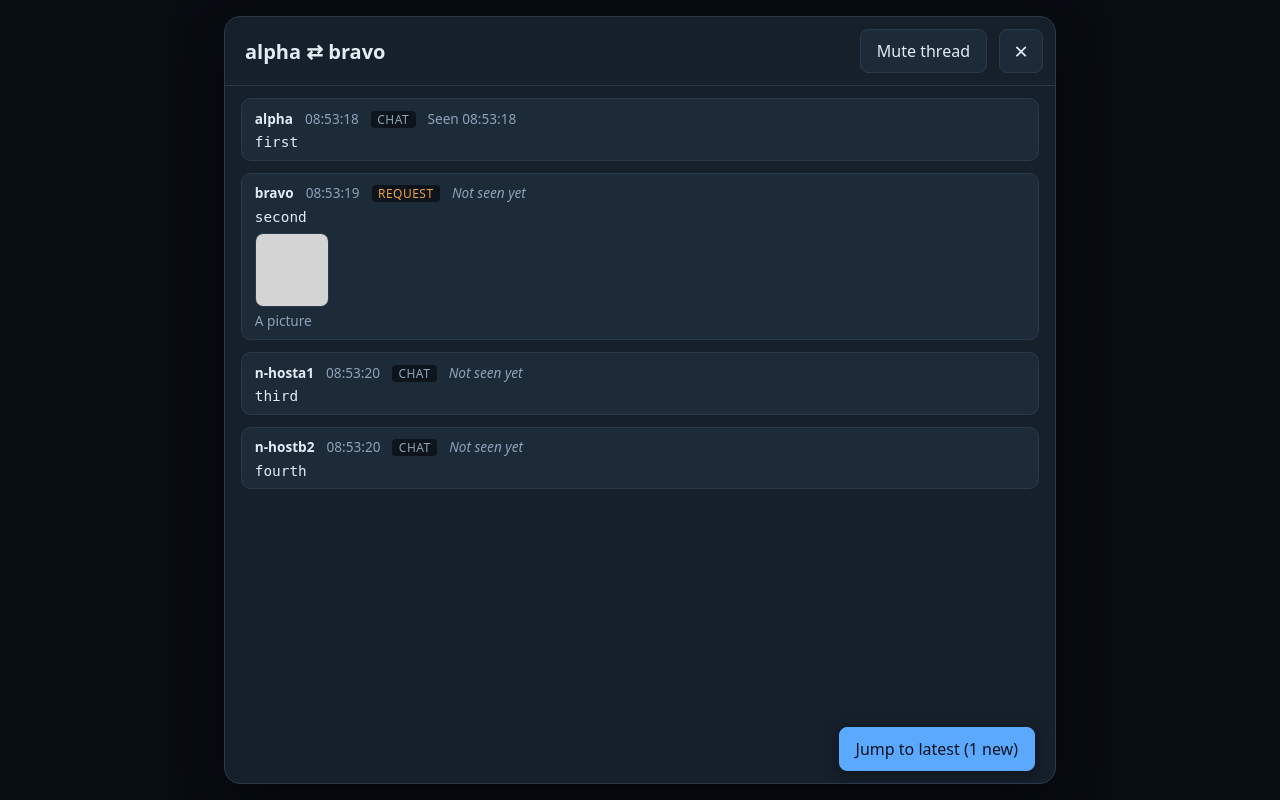
thread overlay › follows new messages at the bottom; after scrolling up it shows jump-to-latest instead
The width and height of the screenshot is (1280, 800).
(page scrolled)
Click the button "Jump to latest (1 new)".
click(937, 749)  # box [839, 727, 1035, 771]
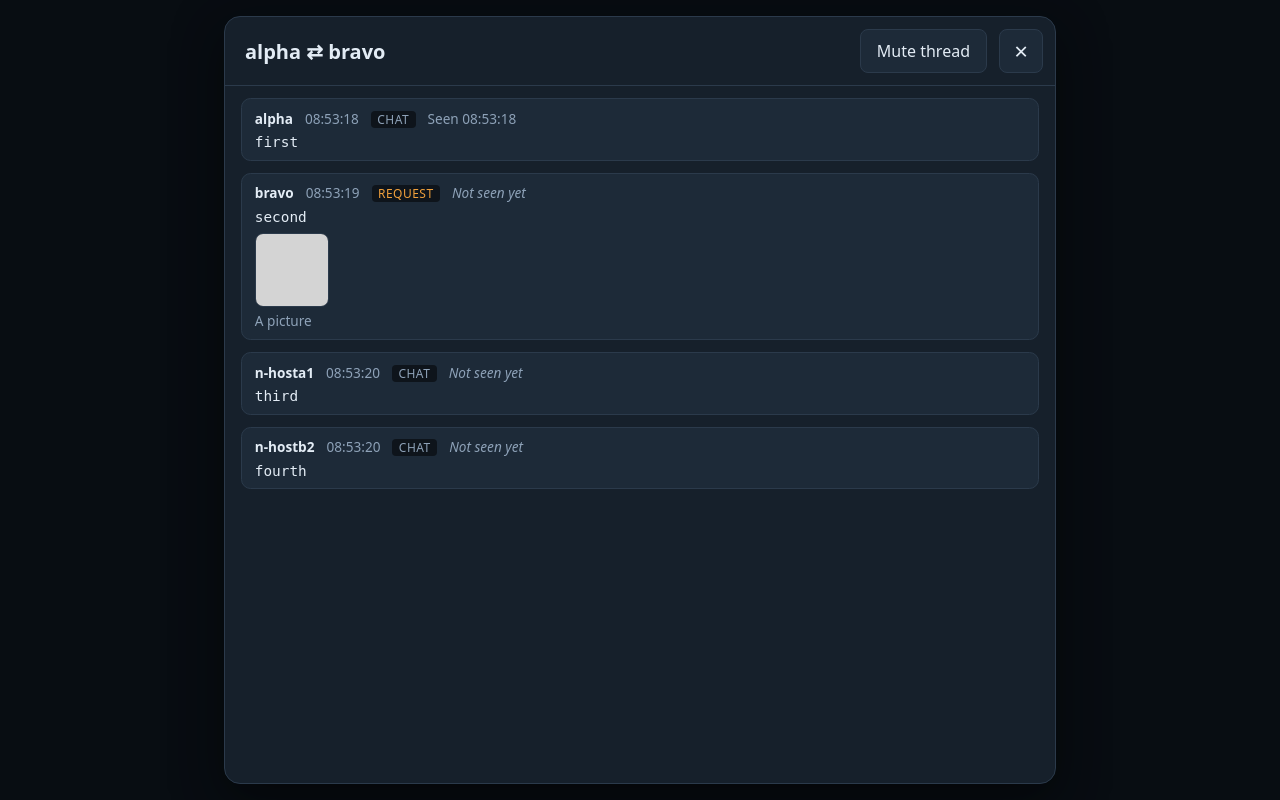
expect the button "Jump to latest" is gone: met
